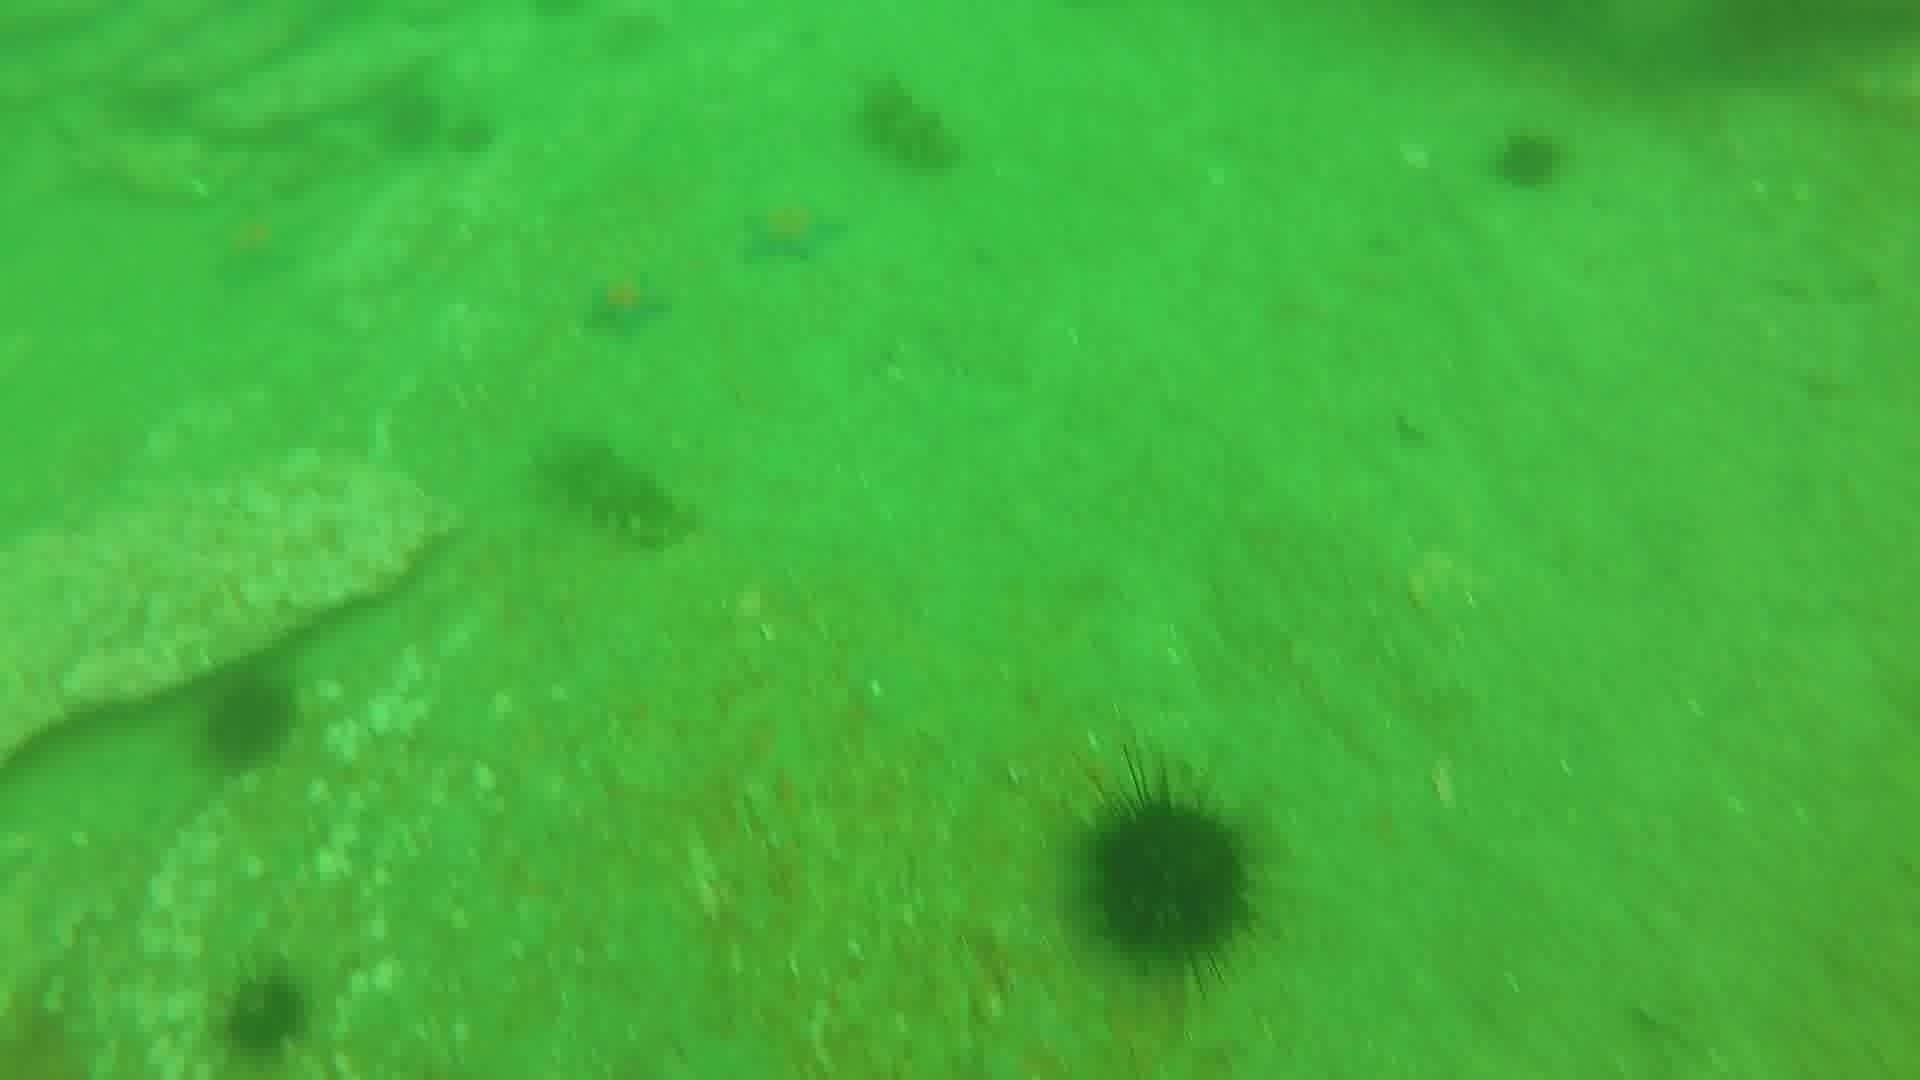echinus: (1069, 760, 1270, 986), (194, 667, 301, 777), (212, 968, 315, 1064), (369, 79, 448, 160), (1487, 125, 1571, 195), (442, 107, 502, 162)
holothurian: (531, 429, 700, 551), (851, 74, 964, 175)
starfish: (196, 193, 313, 289), (733, 190, 851, 272), (574, 262, 676, 340)
